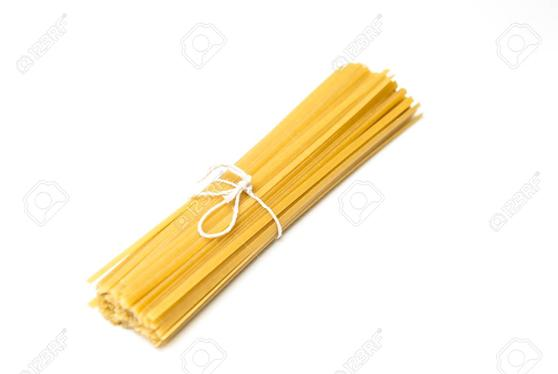spaghetti: (90, 62, 425, 348)
